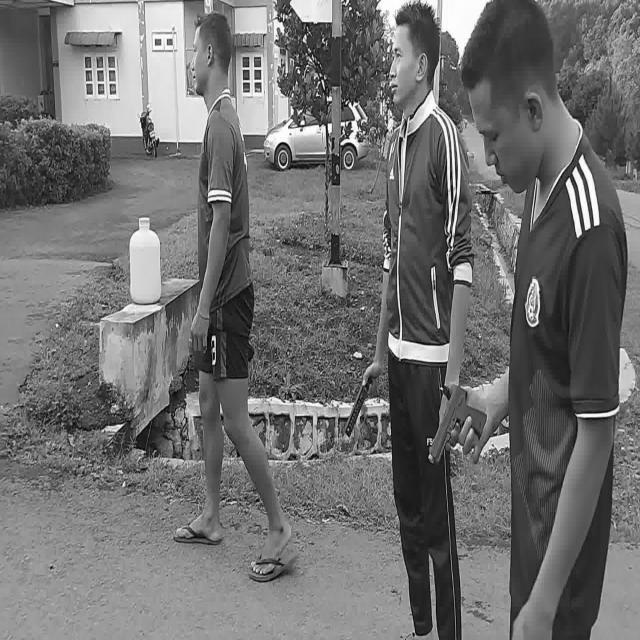gun: (428, 387, 488, 464)
